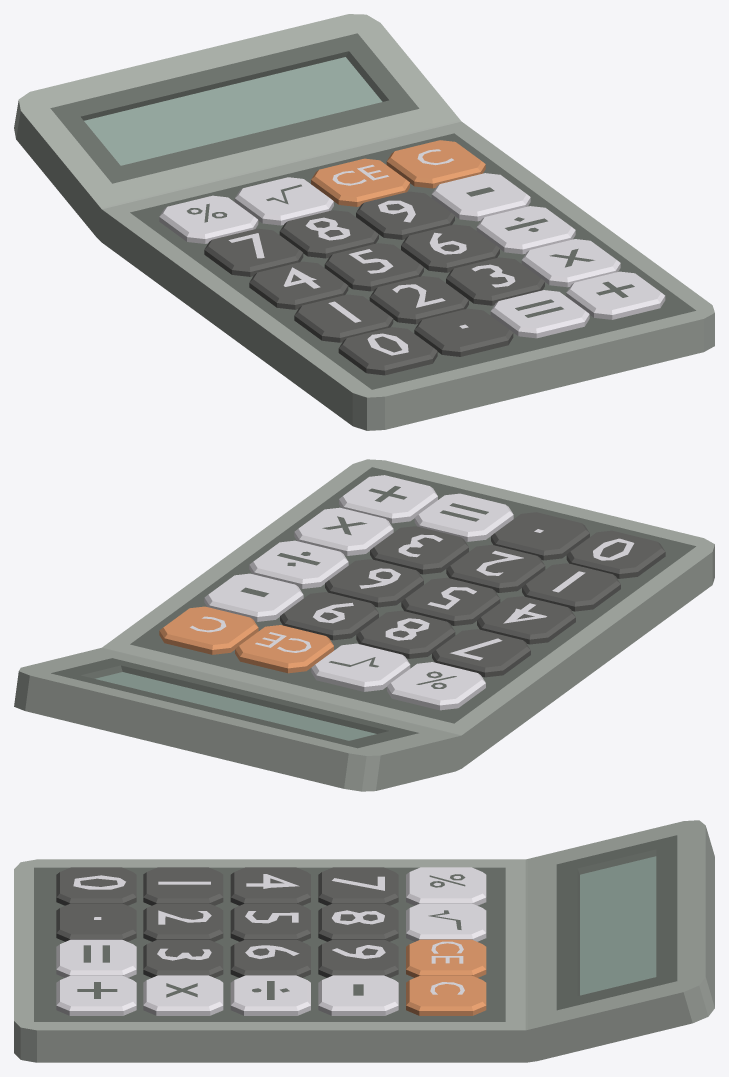
Rendered from matematicas.glb.
3 views of the same model, one above another, from view 1: azimuth 30°, elevation 25°; view 2: azimuth 150°, elevation 25°; view 3: azimuth 270°, elevation 25° (orthographic). The views are drawn at different scales.
Visible parts, largest first — view 1: Text; view 2: Text; view 3: Text.
Boxes of the visible parts, box(x1,y1,x2,y2) form: Text: box(14, 14, 714, 430); Text: box(14, 459, 714, 791); Text: box(14, 820, 714, 1062).
Size of the model in its own units: 1.1 by 0.2286 by 1.91.
Materials: 3 (3 with a texture image).
